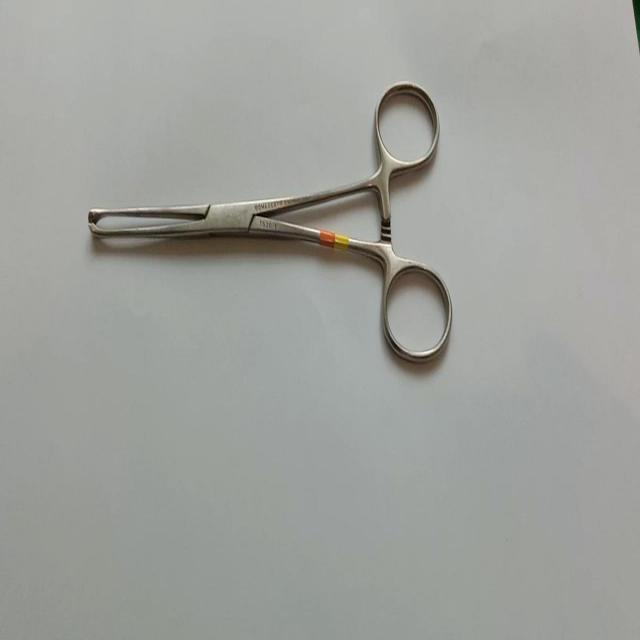AllisForcep: (87, 76, 454, 364)
